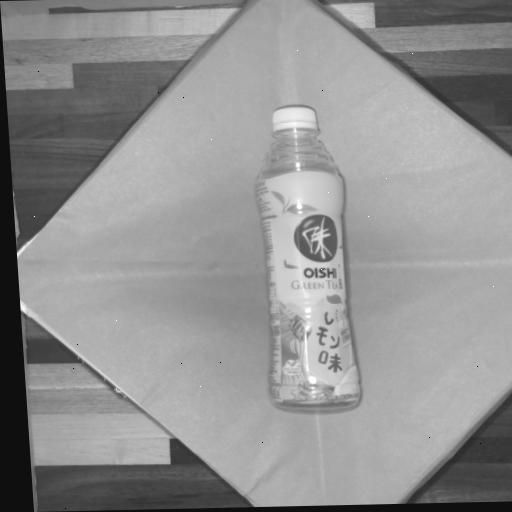bottle: (256, 105, 359, 407)
